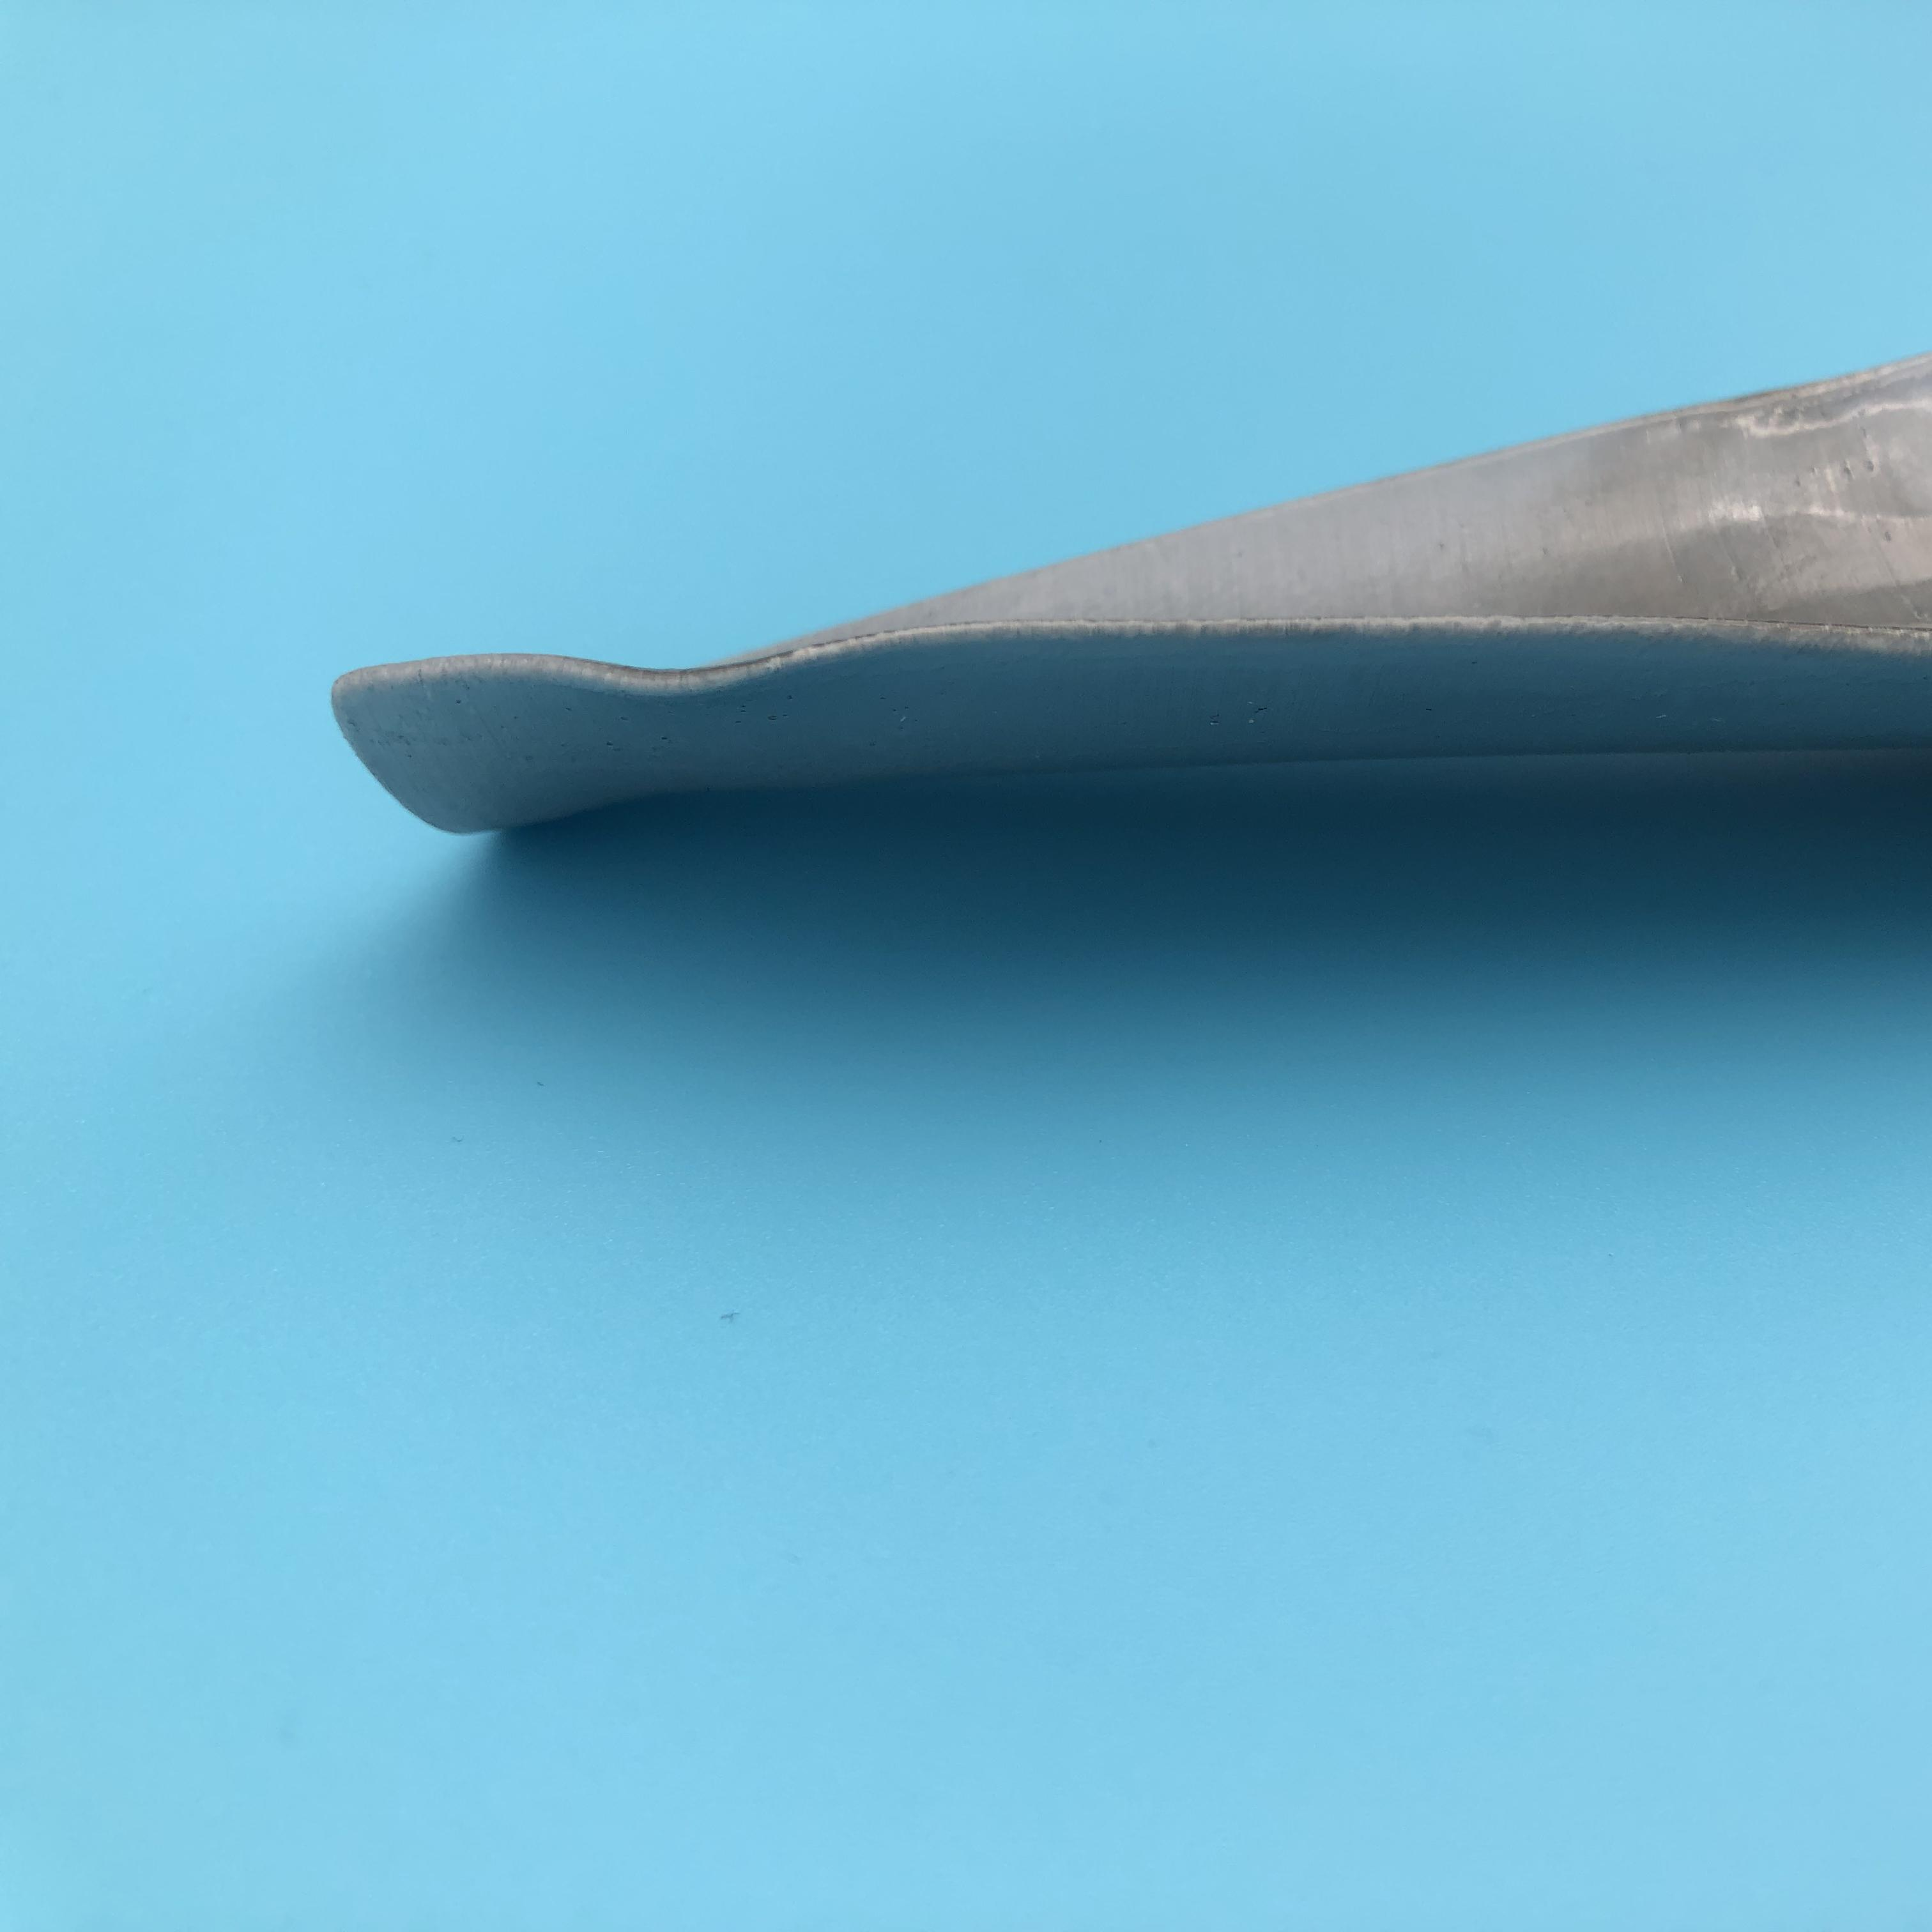ablation: (1612, 449, 1893, 617)
